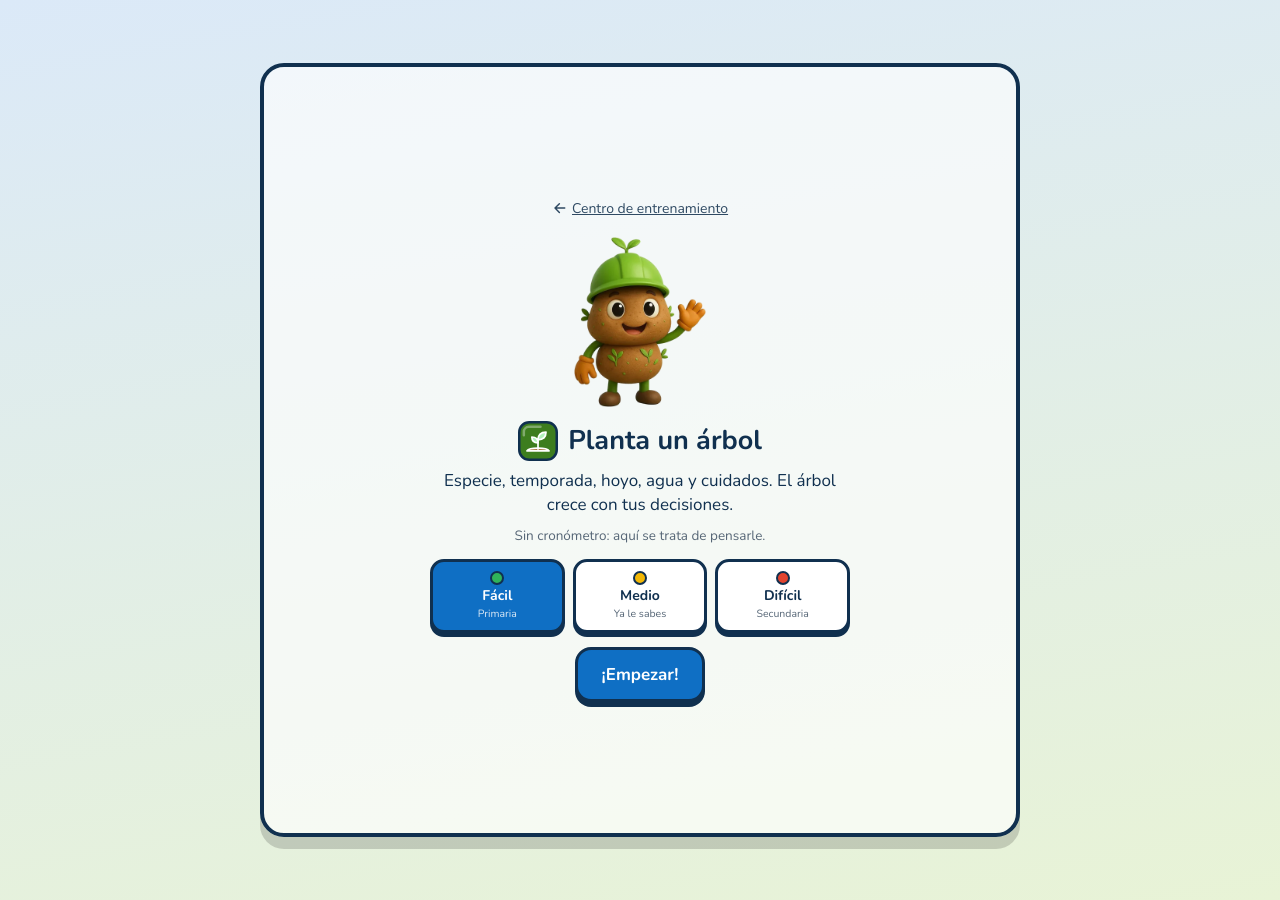
Test case: jugadas completas › planta un árbol: la mejor decisión hace crecer la planta
The width and height of the screenshot is (1280, 900).
Click the button "¡Empezar!": coordinates (640, 675) [574,647,705,702]
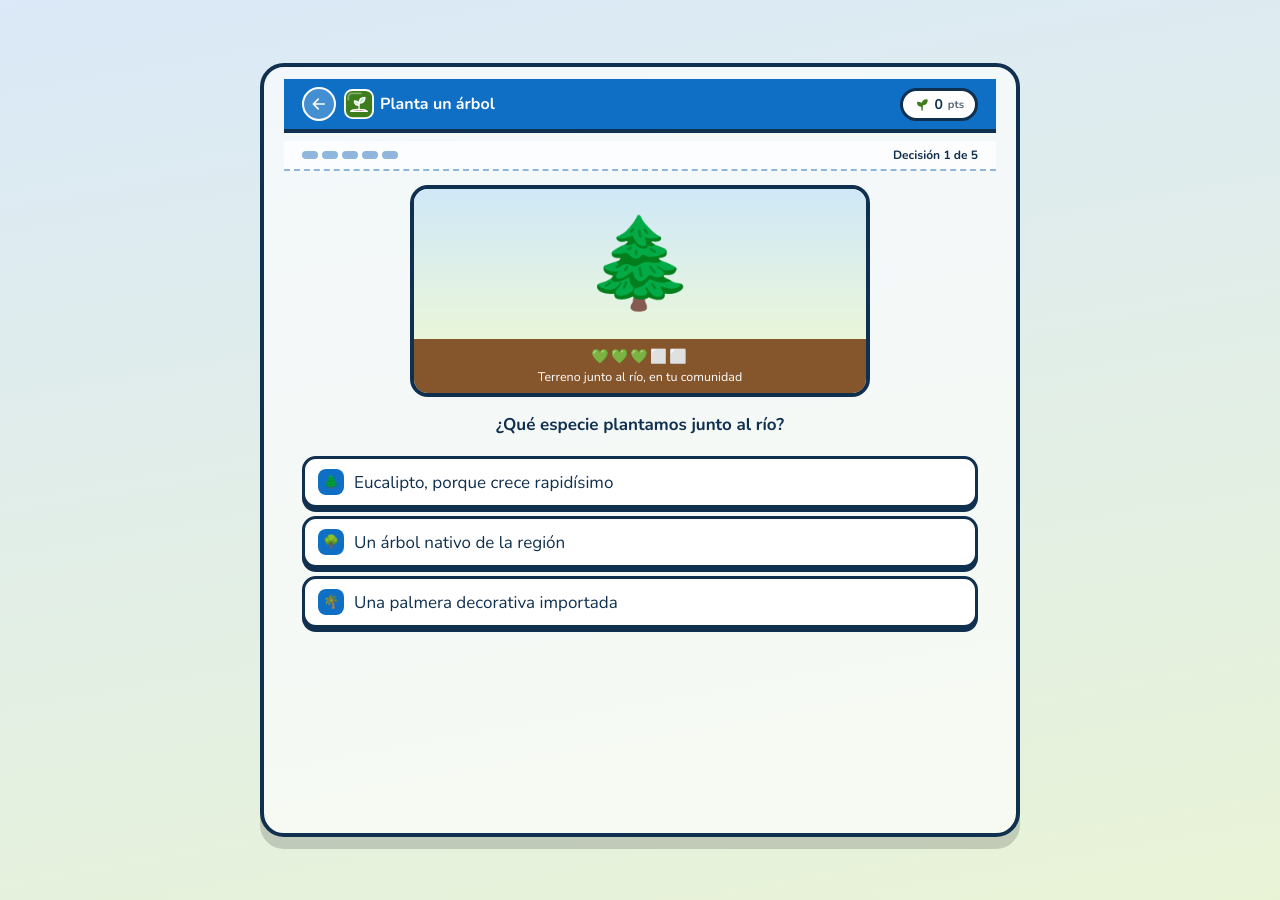
Click the button "🌳 Un árbol nativo de la región": coordinates (460, 542) [302,516,978,568]
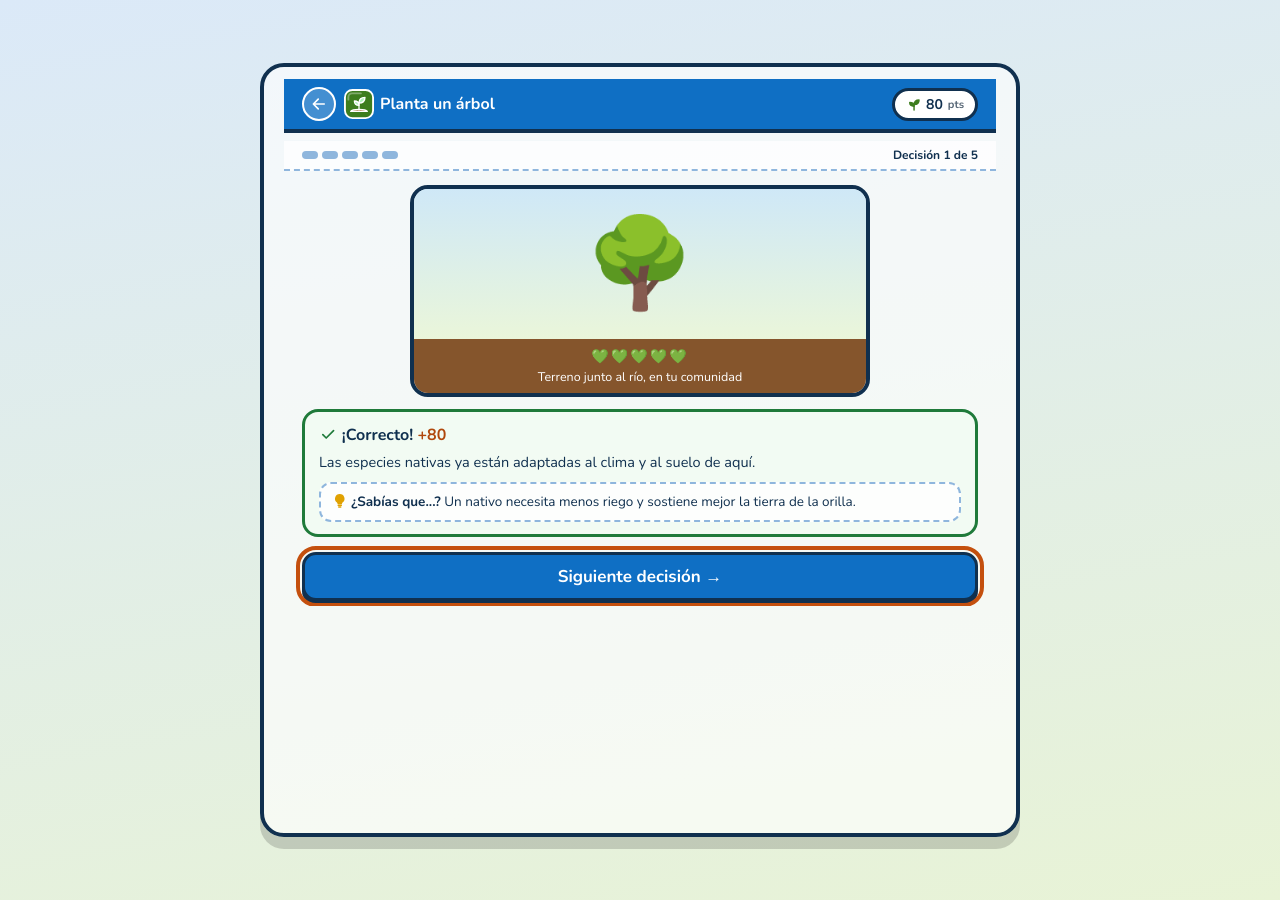
Check: the message with class "retro--bien" is shown, box [302,409,978,537]
